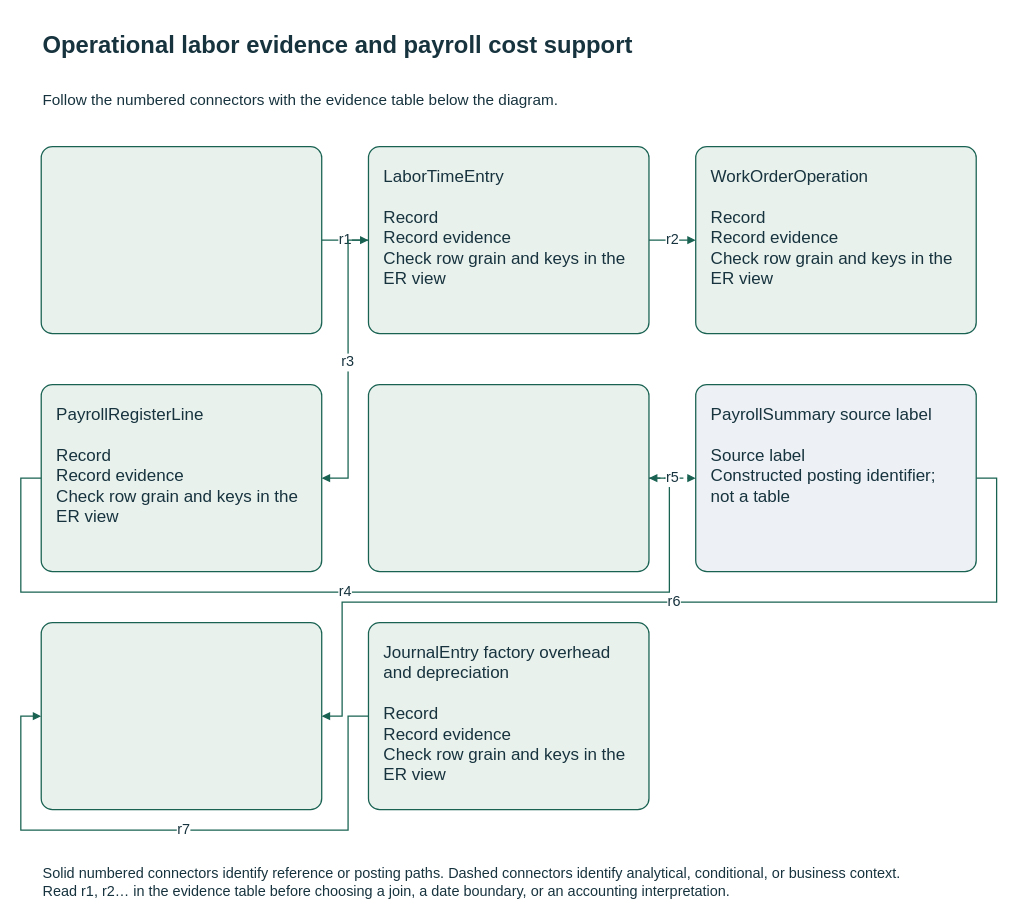
The diagram is 1019 pixels wide and 922 high, and some of its shapes have lost their labels. The centre of each missing label's shape, as x and y in pixels:
"GLEntry Record Record evidence Check row grain and keys in the ER view" goes at (x=181, y=716).
"PayrollRegister Record Record evidence Check row grain and keys in the ER view" goes at (x=508, y=478).
"TimeClockEntry Record Record evidence Check row grain and keys in the ER view" goes at (x=181, y=240).
